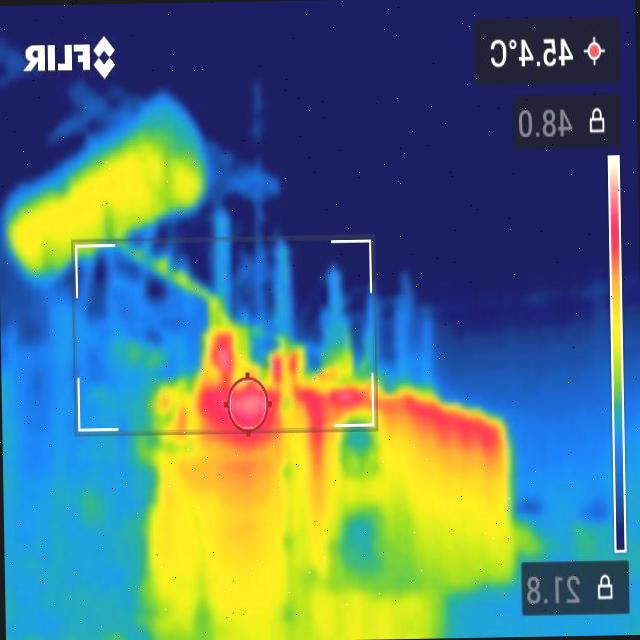loose_joint_red: (201, 318, 248, 369), (268, 338, 303, 380)
loose_joint_yellow: (323, 338, 351, 376)
point_overload_yellow: (151, 263, 222, 325)
